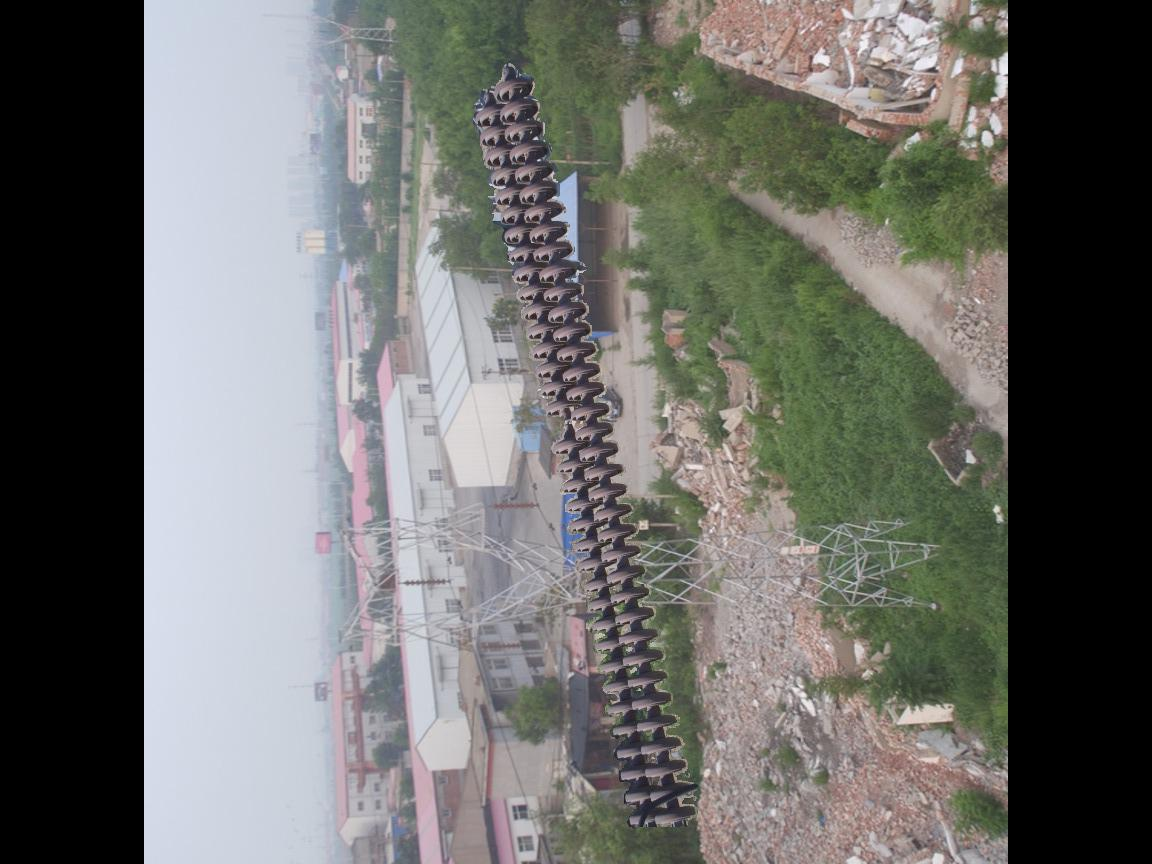insulator: (467, 71, 704, 837)
insulator_stringdrop: (542, 398, 588, 458)
